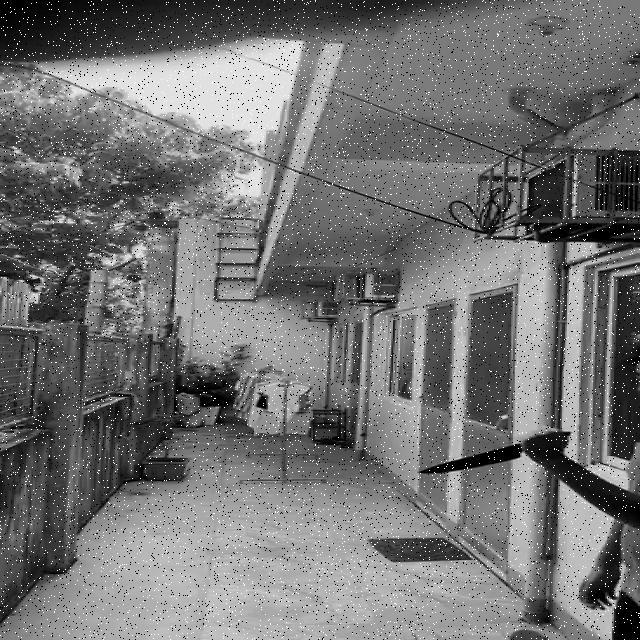knife: (416, 430, 570, 475)
